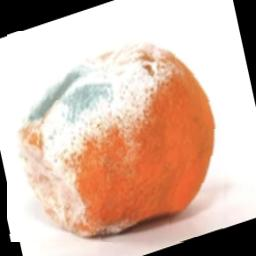Orange Rotten: (8, 32, 231, 243)
